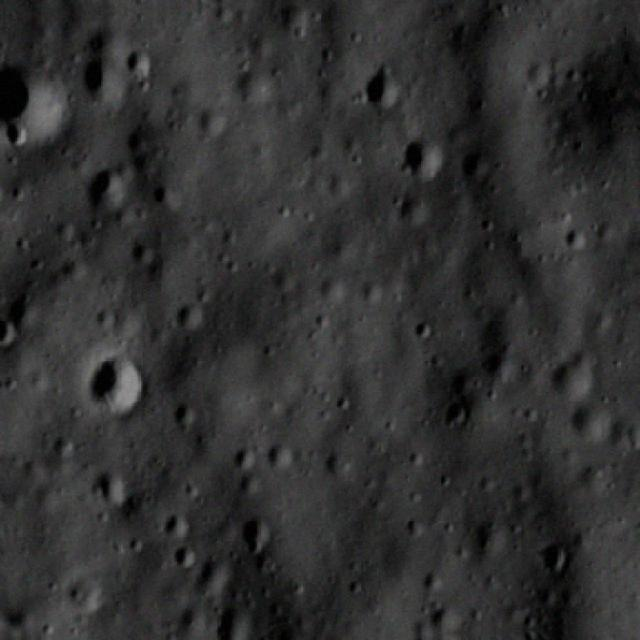crater: (74, 346, 158, 426), (0, 56, 45, 138), (394, 127, 451, 181), (358, 55, 407, 117), (76, 45, 122, 110), (88, 158, 128, 214), (528, 536, 572, 581), (145, 175, 181, 212)
